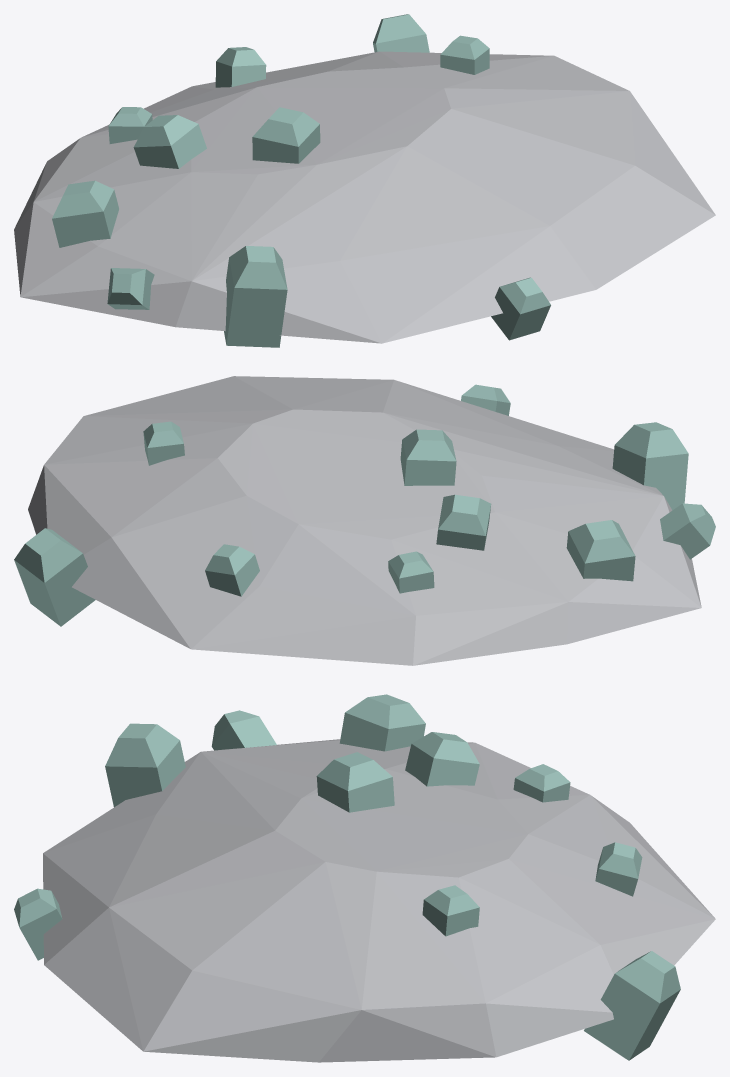
File: SM_MR_Crystal_Small_01.fbx
3 views of the same model, one above another, from view 1: azimuth 30°, elevation 25°; view 2: azimuth 150°, elevation 25°; view 3: azimuth 270°, elevation 25° (orthographic). The views are drawn at different scales.
Visible parts, largest first — view 1: SM_MR_Crystal_Small_01; view 2: SM_MR_Crystal_Small_01; view 3: SM_MR_Crystal_Small_01.
Part boxes in pixels (box(x1,y1,x2,y2)): SM_MR_Crystal_Small_01: box(14, 14, 715, 347); SM_MR_Crystal_Small_01: box(14, 376, 715, 665); SM_MR_Crystal_Small_01: box(14, 694, 715, 1062).
Bounding box in the file's own units: 0.35 × 0.3174 × 0.0818.
